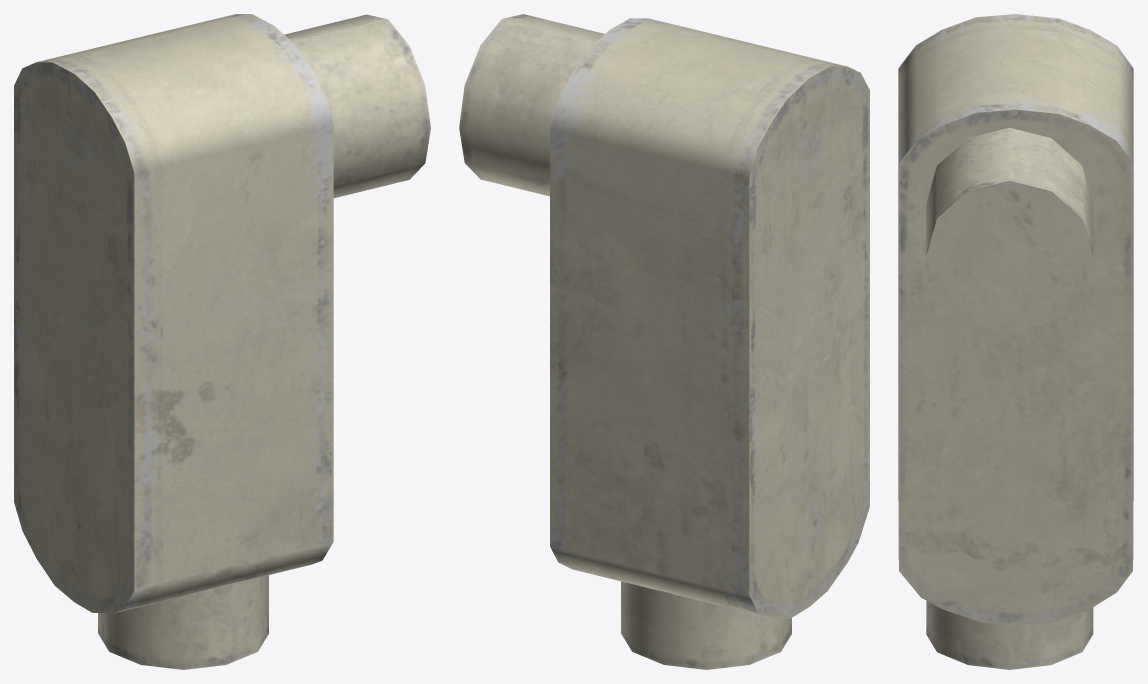
Rendered from SM_Wall_Electrical_Wire_Casing_02c.fbx.
3 renders of one model, left to right at view 1: azimuth 30°, elevation 25°; view 2: azimuth 150°, elevation 25°; view 3: azimuth 270°, elevation 25°, orthographic. The views are drawn at different scales.
Visible parts, largest first — view 1: SM_Wall_Electrical_Wire_Casing_02c_LOD0; view 2: SM_Wall_Electrical_Wire_Casing_02c_LOD0; view 3: SM_Wall_Electrical_Wire_Casing_02c_LOD0.
Part boxes in pixels (x1,y1,x2,y2): SM_Wall_Electrical_Wire_Casing_02c_LOD0: [14, 14, 430, 669]; SM_Wall_Electrical_Wire_Casing_02c_LOD0: [459, 14, 869, 669]; SM_Wall_Electrical_Wire_Casing_02c_LOD0: [898, 14, 1133, 669].
Size of the model in its own units: 4.42 by 2.96 by 7.92.
